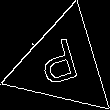P_S: (37, 35, 87, 95)
